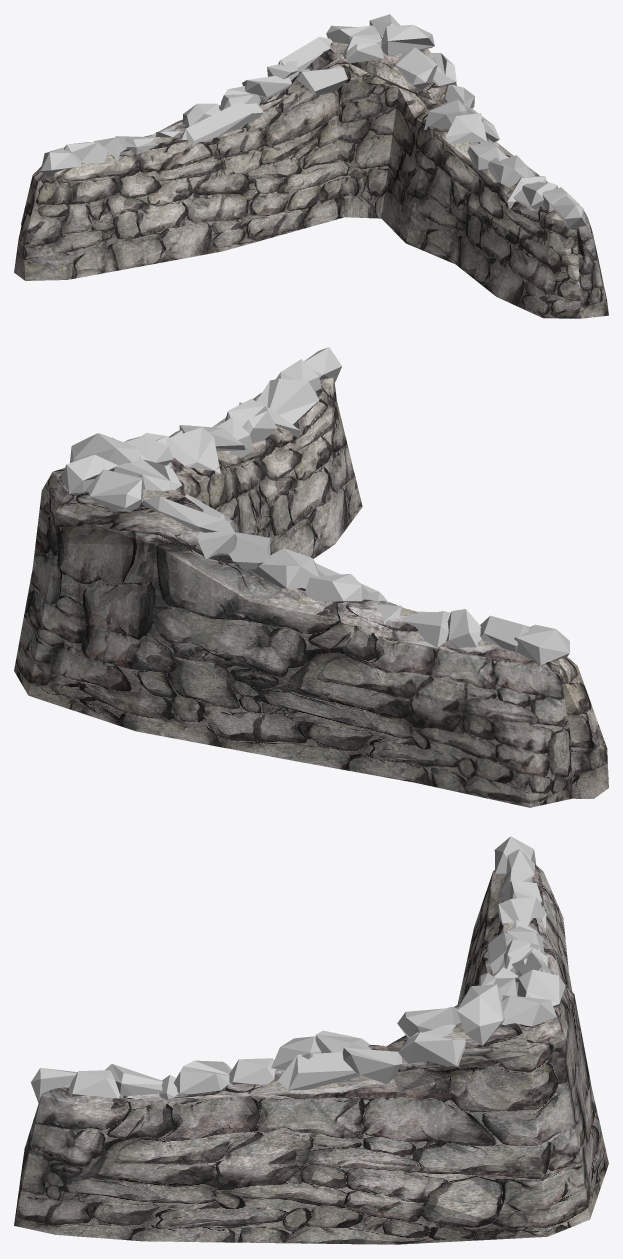
The model's file is Wall_3_LOD2.fbx.
3 renders of one model, top to bottom at view 1: azimuth 30°, elevation 25°; view 2: azimuth 150°, elevation 25°; view 3: azimuth 270°, elevation 25°, orthographic. The views are drawn at different scales.
Parts seen in each view (by area): view 1: Wall, Rock; view 2: Wall, Rock; view 3: Wall, Rock.
Boxes of the visible parts, x1=… form: Wall: x1=14, y1=35, x2=608, y2=318; Rock: x1=41, y1=14, x2=586, y2=230; Wall: x1=14, y1=377, x2=608, y2=807; Rock: x1=61, y1=347, x2=569, y2=665; Wall: x1=14, y1=864, x2=608, y2=1244; Rock: x1=31, y1=836, x2=565, y2=1102.
Size of the model in its own units: 797 by 723 by 293.
